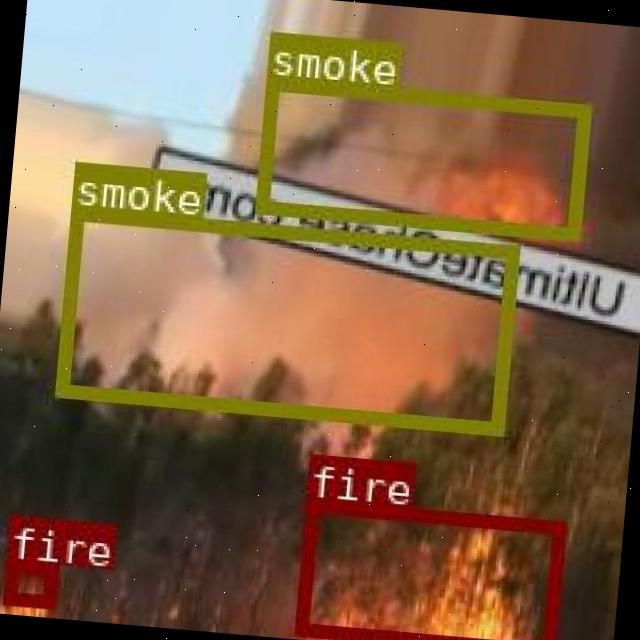fire: (291, 497, 561, 640), (1, 558, 56, 606)
smoke: (54, 206, 518, 433), (252, 76, 588, 237)
